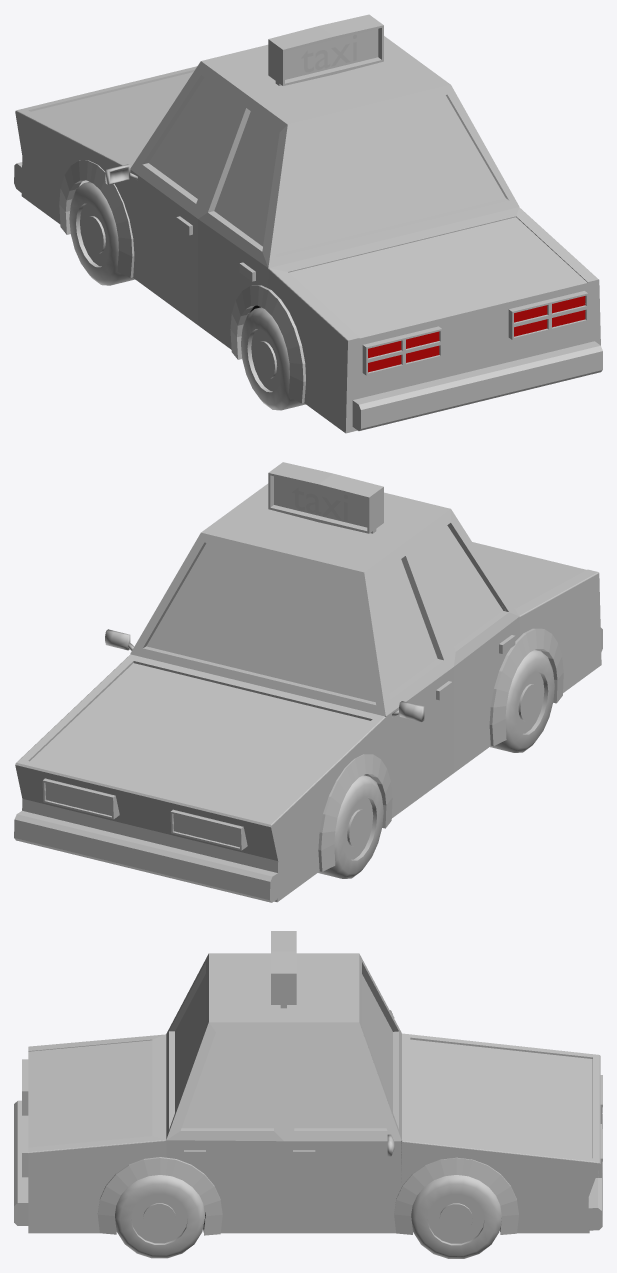
The model's file is taxi.obj.
3 renders of one model, top to bottom at view 1: azimuth 30°, elevation 25°; view 2: azimuth 150°, elevation 25°; view 3: azimuth 270°, elevation 25°, orthographic. The views are drawn at different scales.
Visible parts, largest first — view 1: bodyCar, bodyCar.001, Trank, CarHood, Flaps, WheelL-F, WheelsBack, text-Tax; view 2: bodyCar, bodyCar.001, CarHood, Flaps, WheelL-F, WheelsBack, Trank, Text-Taxi; view 3: bodyCar, bodyCar.001, CarHood, Trank, Flaps, WheelR-F, WheelsBack, hundleDoor.
Part boxes in pixels (x1,y1,x2,y2): bodyCar: (14,14,602,433); bodyCar.001: (149,77,505,253); Trank: (289,217,588,380); CarHood: (31,72,193,163); Flaps: (59,160,305,403); WheelL-F: (69,182,134,285); WheelsBack: (241,307,305,410); text-Tax: (301,34,356,72); bodyCar: (14,462,602,902); bodyCar.001: (146,525,502,702); CarHood: (30,663,370,818); Flaps: (318,628,563,871); WheelL-F: (318,775,383,878); WheelsBack: (490,650,554,752); Trank: (472,542,586,608); Text-Taxi: (292,487,347,521); bodyCar: (14,931,602,1233); bodyCar.001: (175,974,392,1128); CarHood: (410,1039,592,1158); Trank: (22,1040,152,1177); Flaps: (97,1157,518,1235); WheelR-F: (411,1175,501,1258); WheelsBack: (115,1175,204,1258); hundleDoor: (184,1150,315,1159).
Size of the model in its own units: 4.94 by 4.36 by 9.21.
